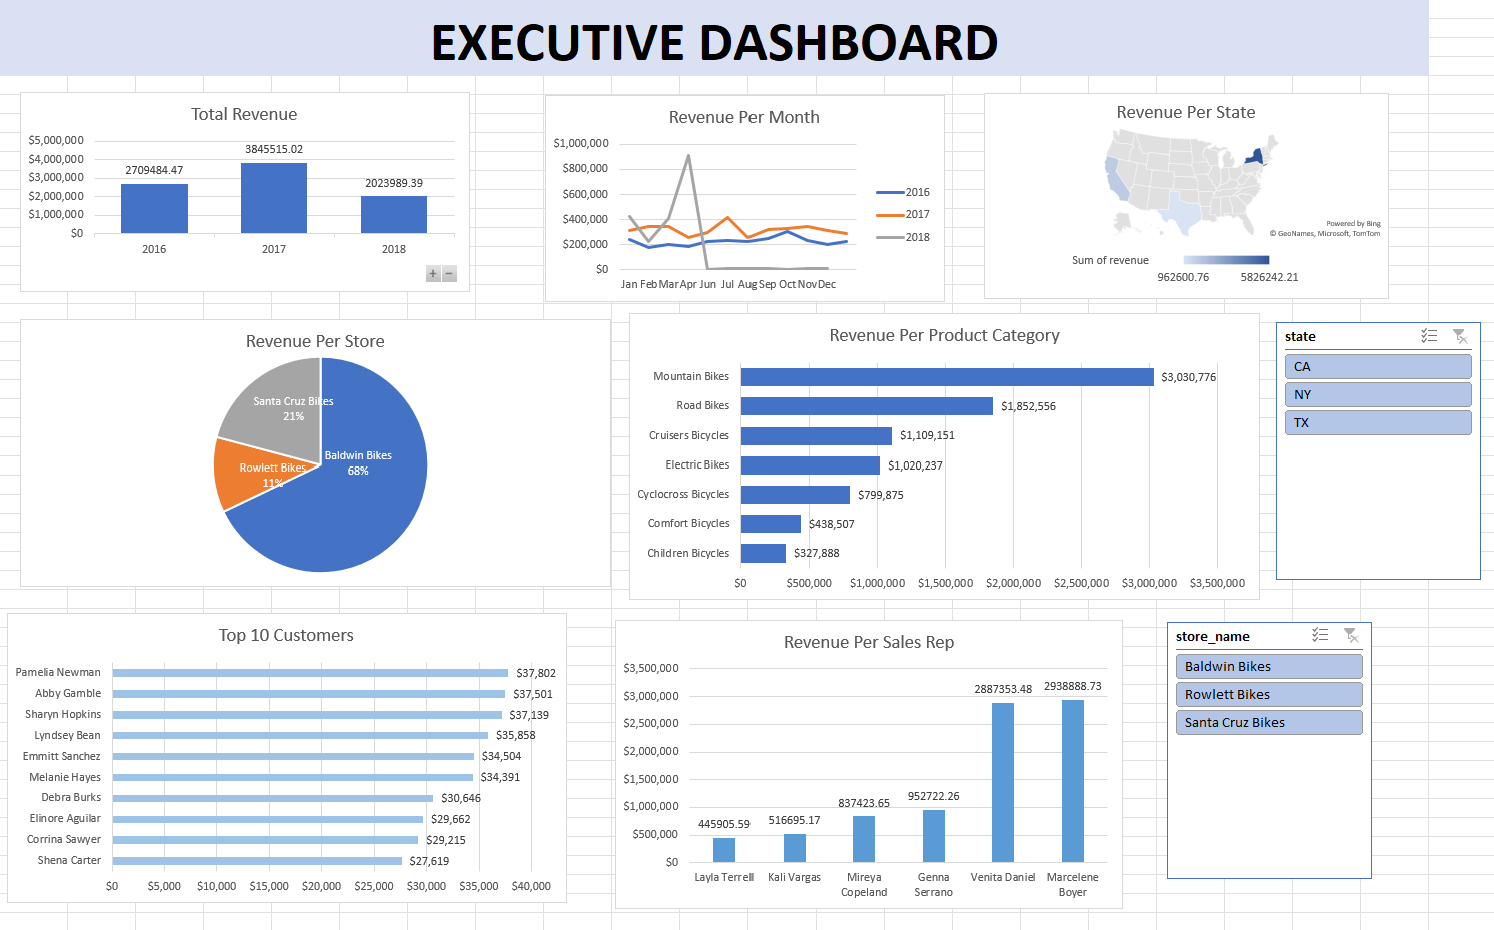

The page's visual inventory and layout, read from the dashboard file:
{"tool":"tableau","page":{"name":"Dashboard 1","canvas":[800,1600],"ordinal":0},"visuals":[{"type":"image","param":"Image/360_F_376047242_pKuIcWEkVWTVLQGqeHQjByNvyFoGAUpp.jpg","box":[8,8,135,105]},{"type":"text","box":[143,8,523,105]},{"type":"worksheet","title":"Year","mark":"Automatic","box":[666,8,126,105]},{"type":"worksheet","title":"Banner","mark":"Automatic","box":[8,113,784,152]},{"type":"worksheet","title":"Title","mark":"Automatic","box":[8,265,616,59]},{"type":"filter","title":"Revenue/State","param":"[federated.1bmme9e1223qsj14tlzgv0wqyuy2].[none:state:nk]","box":[624,265,168,59]},{"type":"worksheet","title":"Revenue/Year","mark":"Bar","rows":["revenue"],"cols":["order_date"],"box":[8,324,403,286]},{"type":"worksheet","title":"Revenue/Month","mark":"Automatic","rows":["revenue"],"cols":["order_date"],"box":[411,324,380.9,286]},{"type":"worksheet","title":"Revenue/State","mark":"Multipolygon","box":[8,610,403,256]},{"type":"worksheet","title":"Revenue/Store","mark":"Pie","box":[411,610,381,256]},{"type":"worksheet","title":"Revenue/Category","mark":"Automatic","box":[8,866,384,290]},{"type":"worksheet","title":"Revenue/Sales Rep","mark":"Automatic","rows":["sales_rep"],"cols":["revenue"],"box":[392,866,400,290]},{"type":"worksheet","title":"Top Customers","mark":"Automatic","rows":["customers"],"cols":["revenue"],"box":[8,1156,382,341]},{"type":"worksheet","title":"Top Products","mark":"Automatic","rows":["product_name"],"cols":["revenue"],"box":[390,1156,402,341]},{"type":"blank","box":[8,1497,784,47.5]},{"type":"blank","box":[8,1544.5,784,47.5]}]}

Visuals, with their boxes on the page's 800x1600 design canvas (x1, y1, x2, y2). These are canvas units, not pixel positions in the 1494x930 screenshot, which may show the page scaled, cropped or inside an application window:
image: detection(8, 8, 143, 113)
text: detection(143, 8, 666, 113)
"Year" worksheet: detection(666, 8, 792, 113)
"Banner" worksheet: detection(8, 113, 792, 265)
"Title" worksheet: detection(8, 265, 624, 324)
"Revenue/State" filter: detection(624, 265, 792, 324)
"Revenue/Year" worksheet (Bar marks): detection(8, 324, 411, 610)
"Revenue/Month" worksheet: detection(411, 324, 792, 610)
"Revenue/State" worksheet (Multipolygon marks): detection(8, 610, 411, 866)
"Revenue/Store" worksheet (Pie marks): detection(411, 610, 792, 866)
"Revenue/Category" worksheet: detection(8, 866, 392, 1156)
"Revenue/Sales Rep" worksheet: detection(392, 866, 792, 1156)
"Top Customers" worksheet: detection(8, 1156, 390, 1497)
"Top Products" worksheet: detection(390, 1156, 792, 1497)
blank: detection(8, 1497, 792, 1544)
blank: detection(8, 1544, 792, 1592)
